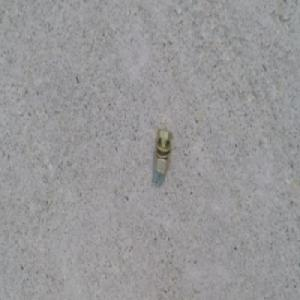BoltNutSet: (153, 127, 173, 174)
